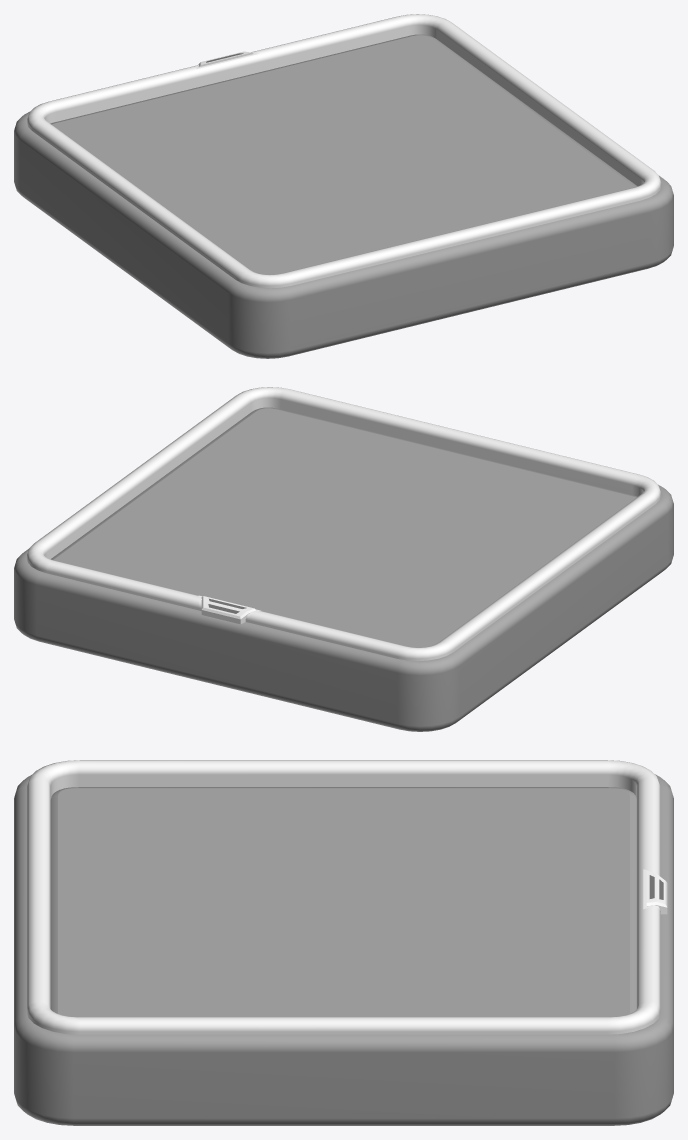
The model's file is Model_Block_Square_3x3_New.fbx.
3 renders of one model, top to bottom at view 1: azimuth 30°, elevation 25°; view 2: azimuth 150°, elevation 25°; view 3: azimuth 270°, elevation 25°, orthographic. The views are drawn at different scales.
Parts seen in each view (by area): view 1: Block_Square_Water, Block_Square_BG, Block_Square_Stroke; view 2: Block_Square_Water, Block_Square_BG, Block_Square_Stroke; view 3: Block_Square_Water, Block_Square_BG, Block_Square_Stroke.
Boxes of the visible parts, box(x1,y1,x2,y2) form: Block_Square_Water: box(50, 34, 637, 274); Block_Square_BG: box(14, 111, 673, 358); Block_Square_Stroke: box(27, 14, 661, 288); Block_Square_Water: box(51, 407, 637, 647); Block_Square_BG: box(14, 484, 673, 731); Block_Square_Stroke: box(26, 387, 661, 661); Block_Square_Water: box(50, 787, 636, 1017); Block_Square_BG: box(14, 774, 673, 1125); Block_Square_Stroke: box(26, 760, 667, 1034).
Bounding box in the file's own units: 296 × 50.91 × 296.
